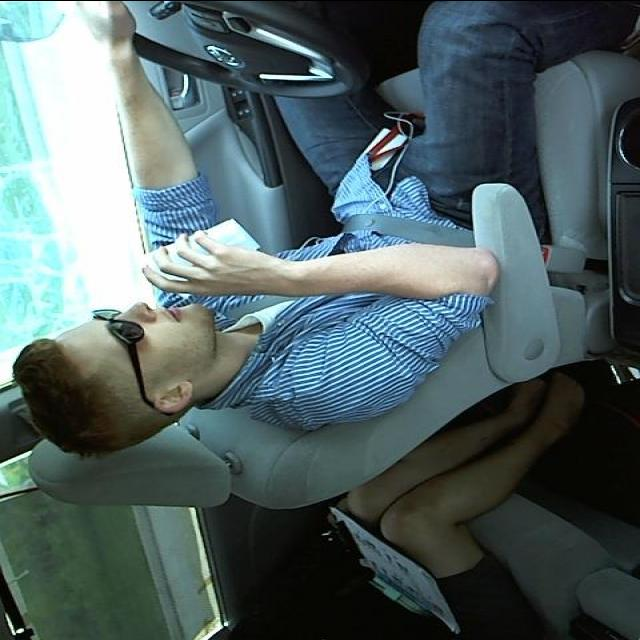drinking: (140, 216, 262, 298)
